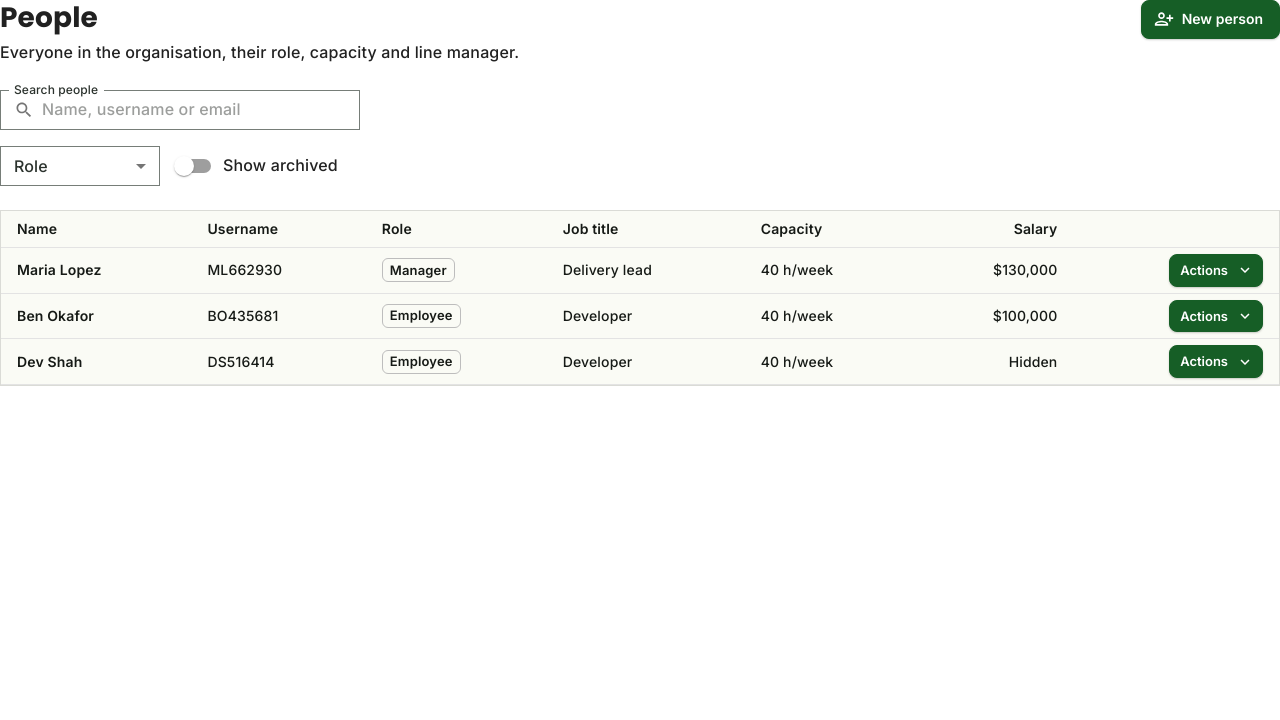
Test case: PeoplePage › resets a password and shows the new one once
The image size is (1280, 720).
Click the button with aria-label "Actions for Ben Okafor" at (1216, 316), box top-left (1169, 300), bottom-right (1263, 332)
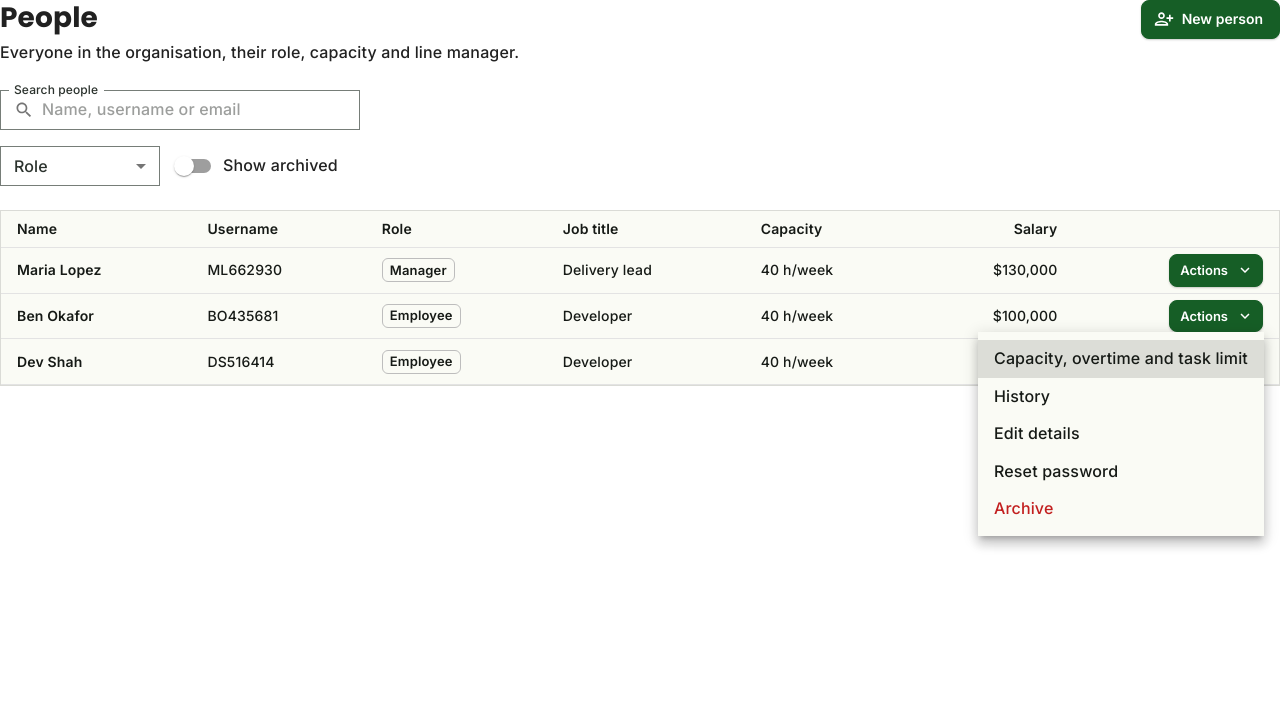
Click the menu item "Reset password" at (1056, 471), box top-left (994, 461), bottom-right (1118, 481)
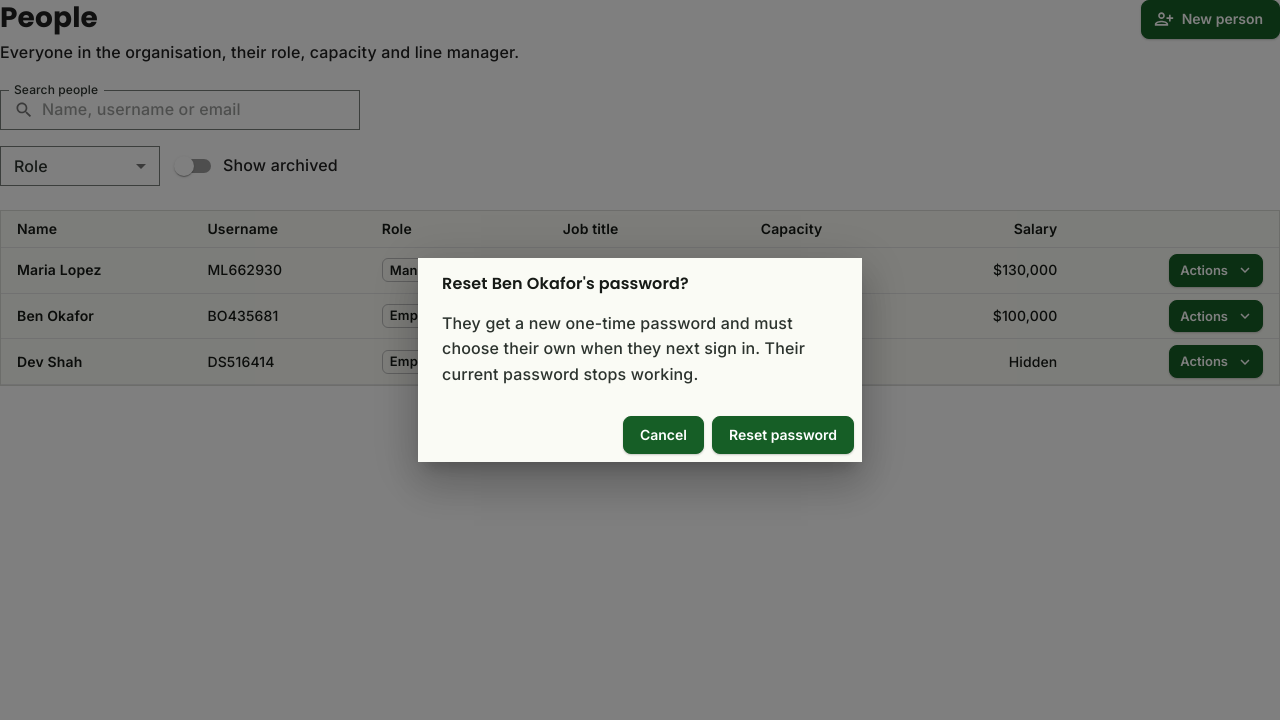
Click the button "Reset password" at (783, 435), box top-left (712, 416), bottom-right (854, 454)
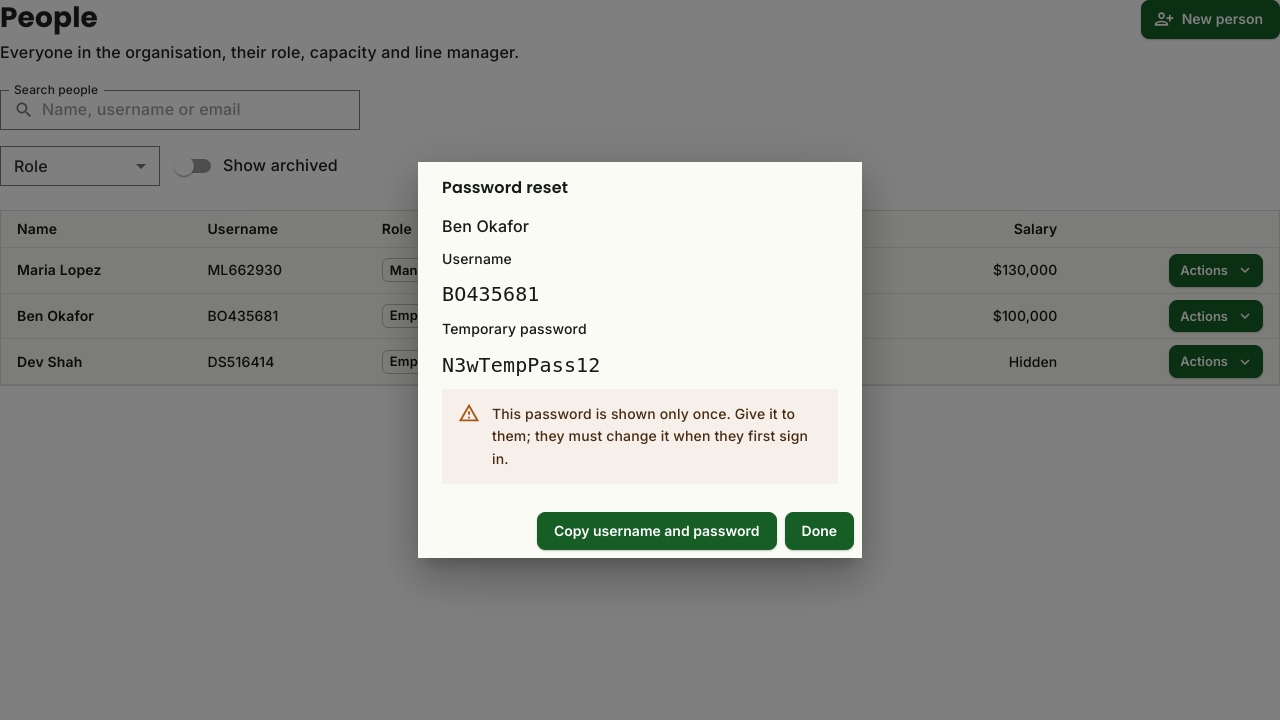
Now the text "N3wTempPass12" is shown, box top-left (442, 353), bottom-right (600, 377)
